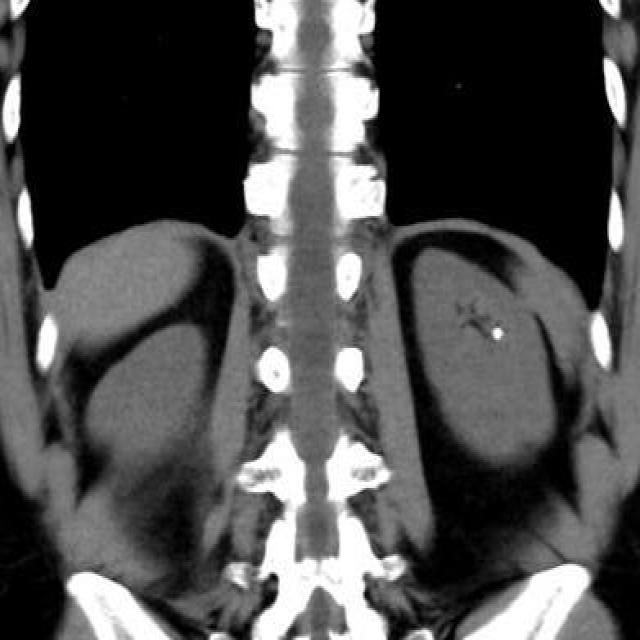Tas_Var: (489, 324, 506, 344)
